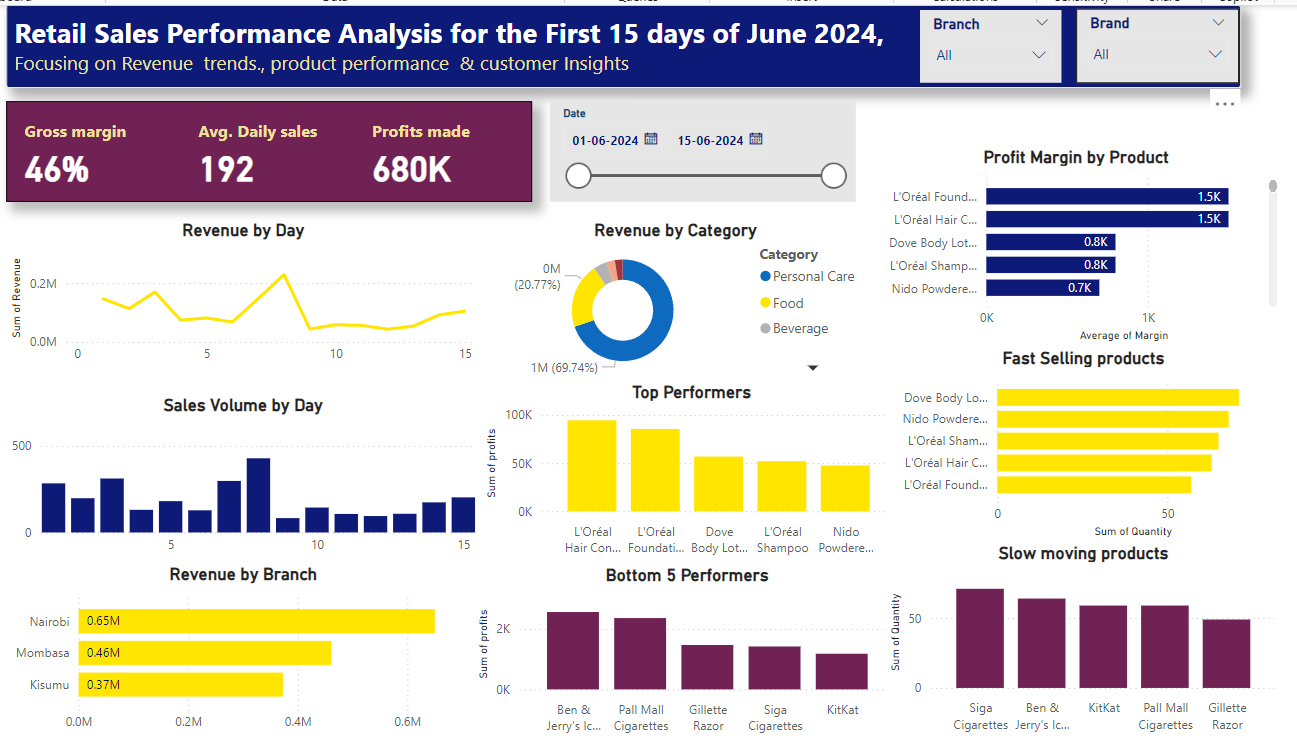

The dashboard page shown, as its layout file describes it:
{"tool":"powerbi","page":{"name":"Page 1","canvas":[1280,720],"ordinal":0},"visuals":[{"type":"textbox","box":[16.5,0,1207.6,81],"z":0},{"type":"lineChart","title":" Revenue by Day","fields":{"Category":["Transactions.Date.Variation.Date Hierarchy.Day"],"Y":["Sum(Transactions.Revenue)"]},"box":[16.5,209.9,463.8,149.6],"z":1000},{"type":"clusteredColumnChart","title":"Sales Volume by Day","fields":{"Category":["Transactions.Date.Variation.Date Hierarchy.Day"],"Y":["Sum(Transactions.Quantity)"]},"box":[16.5,381.5,463.8,164.7],"z":2000},{"type":"clusteredBarChart","title":"Revenue by Branch","fields":{"Category":["Customer data.Branch"],"Y":["Sum(Transactions.Revenue)"]},"box":[16.5,546.1,463.8,172.9],"z":3000},{"type":"donutChart","title":"Revenue by Category","fields":{"Category":["Products.Category"],"Y":["Sum(Transactions.Revenue)"]},"box":[480.3,209.9,380.1,157.8],"z":4000},{"type":"clusteredColumnChart","title":"Top Performers","fields":{"Category":["Products.ProductName"],"Y":["Sum(Transactions.profits)"]},"box":[480.3,367.8,411.7,178.4],"z":5000},{"type":"clusteredColumnChart","title":"Bottom 5 Performers","fields":{"Category":["Products.ProductName"],"Y":["Sum(Transactions.profits)"]},"box":[472,547.5,419.9,172.9],"z":6000},{"type":"clusteredBarChart","title":"Fast Selling products","fields":{"Category":["Products.ProductName"],"Y":["Sum(Transactions.Quantity)"]},"box":[875.5,334.8,388.3,190.7],"z":7000},{"type":"clusteredColumnChart","title":"Slow moving products","fields":{"Category":["Products.ProductName"],"Y":["Sum(Transactions.Quantity)"]},"box":[875.5,525.6,388.3,193.5],"z":8000},{"type":"cardVisual","fields":{"Data":["Products.Gross margin","Transactions.Average sales","Sum(Transactions.profits)"]},"box":[16.5,94.7,514.6,98.8],"z":9000},{"type":"barChart","title":"Profit Margin by Product","fields":{"Category":["Products.ProductName"],"Y":["Avg(Products.Margin)"]},"box":[860.4,138.6,403.4,196.2],"z":10000},{"type":"slicer","fields":{"Values":["Customer data.Branch"]},"box":[909.8,5.5,138.6,71.4],"z":11000},{"type":"slicer","fields":{"Values":["Products.Brand"]},"box":[1062.1,4.1,159.2,72.7],"z":12000},{"type":"slicer","fields":{"Values":["Transactions.Date"]},"box":[547.5,94.7,299.1,98.8],"z":13000}]}

Visuals, with their boxes in screenshot pixels (x1, y1, x2, y2), scaled from the page's 1280x720 canvas onto the 1297x738 screenshot:
textbox: crop(17, 0, 1240, 83)
" Revenue by Day" lineChart: crop(17, 215, 487, 368)
"Sales Volume by Day" clusteredColumnChart: crop(17, 391, 487, 560)
"Revenue by Branch" clusteredBarChart: crop(17, 560, 487, 737)
"Revenue by Category" donutChart: crop(487, 215, 872, 377)
"Top Performers" clusteredColumnChart: crop(487, 377, 904, 560)
"Bottom 5 Performers" clusteredColumnChart: crop(478, 561, 904, 737)
"Fast Selling products" clusteredBarChart: crop(887, 343, 1281, 539)
"Slow moving products" clusteredColumnChart: crop(887, 539, 1281, 737)
cardVisual - Products.Gross margin x Transactions.Average sales: crop(17, 97, 538, 198)
"Profit Margin by Product" barChart: crop(872, 142, 1281, 343)
slicer - Customer data.Branch: crop(922, 6, 1062, 79)
slicer - Products.Brand: crop(1076, 4, 1238, 79)
slicer - Transactions.Date: crop(555, 97, 858, 198)
